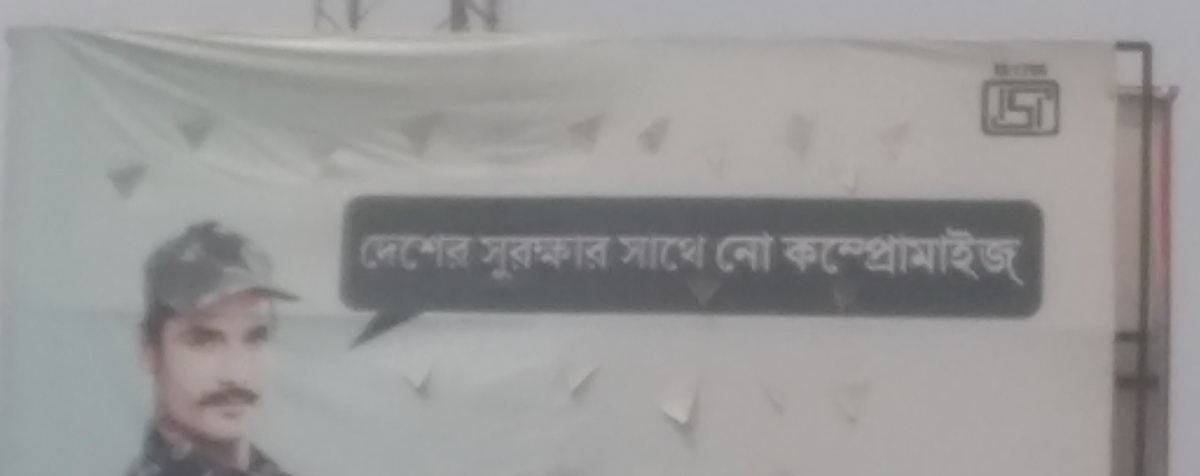text: (785, 223, 800, 292), (801, 223, 816, 292), (817, 223, 832, 292), (833, 223, 848, 292), (849, 223, 864, 292), (865, 223, 880, 292), (881, 223, 896, 292), (897, 223, 912, 292), (913, 223, 928, 292), (929, 223, 944, 292), (945, 223, 960, 292), (961, 223, 976, 292), (977, 223, 992, 292), (993, 223, 1008, 292), (1009, 223, 1024, 292), (481, 230, 496, 284), (497, 230, 512, 284), (513, 230, 528, 284), (529, 230, 544, 284), (545, 230, 560, 284), (561, 230, 576, 284), (577, 230, 592, 284), (593, 230, 608, 284), (721, 231, 736, 279), (737, 231, 752, 279), (753, 231, 768, 279), (993, 84, 1008, 132), (1009, 84, 1024, 132), (1025, 84, 1040, 132), (1041, 84, 1055, 132), (369, 231, 384, 275), (385, 231, 400, 275), (401, 231, 416, 275), (417, 231, 432, 275), (433, 231, 448, 275), (449, 231, 464, 275), (625, 234, 640, 277), (641, 234, 656, 277), (657, 234, 672, 277), (673, 234, 688, 277), (689, 234, 704, 277), (353, 1, 369, 34), (321, 1, 336, 34), (337, 1, 352, 34), (449, 1, 464, 33), (465, 1, 480, 33), (481, 1, 496, 33), (613, 234, 624, 277), (769, 231, 777, 279), (609, 230, 616, 284), (360, 231, 368, 275), (465, 231, 473, 275), (1025, 223, 1030, 292), (993, 59, 1008, 79), (1009, 59, 1024, 79), (1025, 59, 1040, 79), (986, 84, 992, 132), (312, 1, 320, 34), (1041, 59, 1052, 79), (781, 223, 784, 292), (477, 230, 480, 284), (705, 234, 708, 277), (444, 1, 448, 33), (497, 1, 501, 33)
